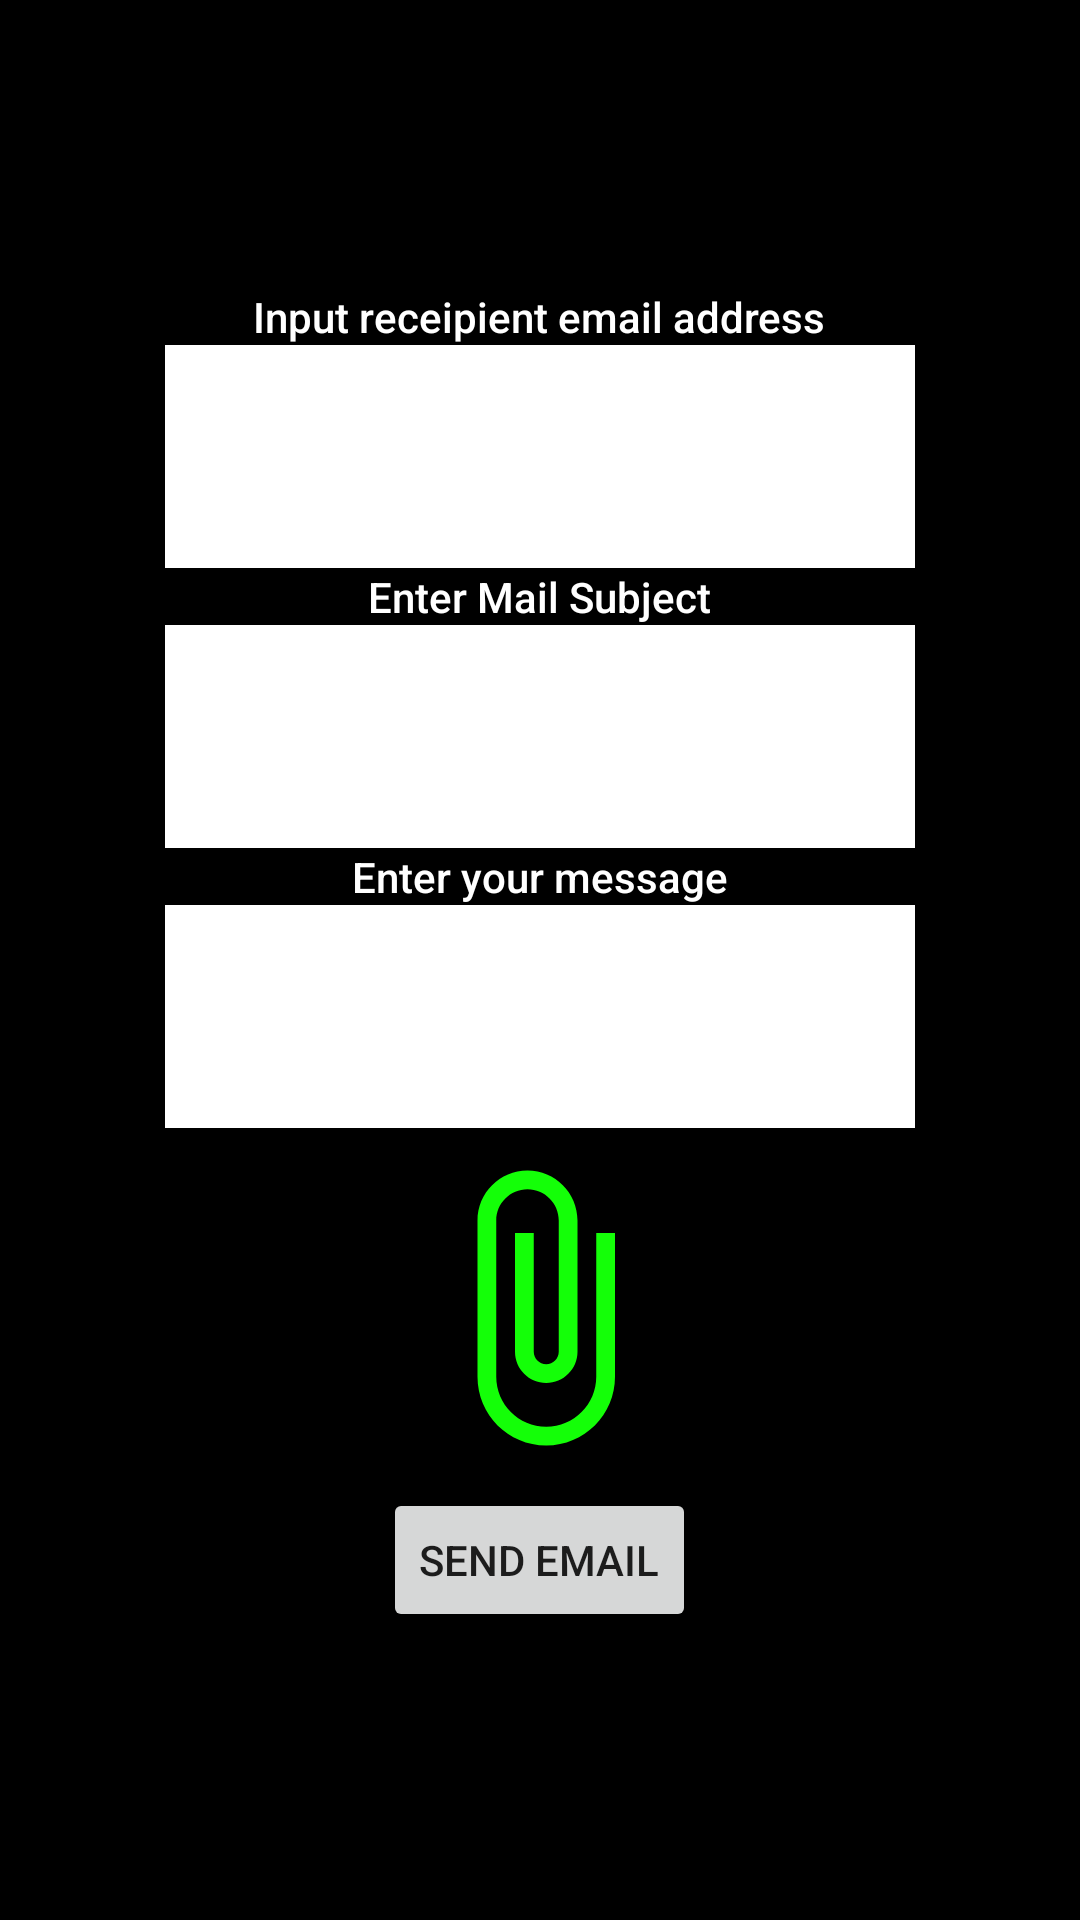

Icons on this 1080w x 1920h Android screen, each with its box as box(x1, y1, x2, y2):
attach file: box(477, 1170, 615, 1446)
